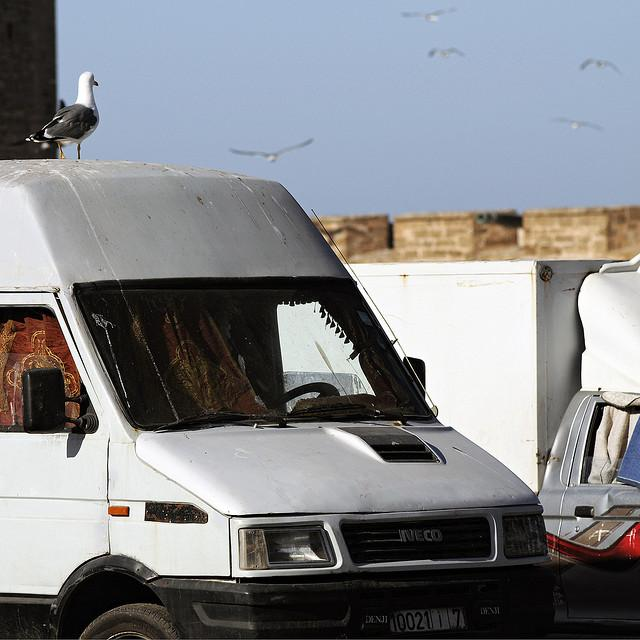Vehicle: (0, 155, 563, 632), (340, 262, 626, 494), (536, 387, 640, 622)
